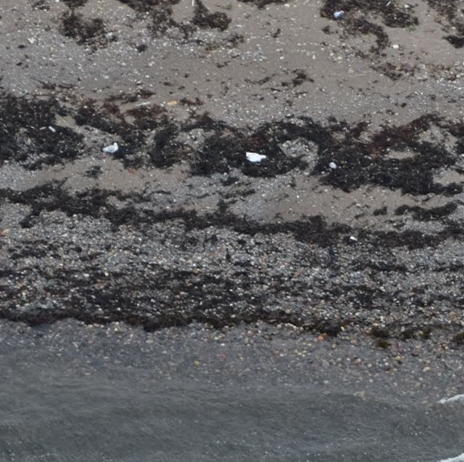white_in_green: (230, 131, 286, 181)
